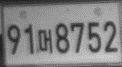1: (22, 24, 36, 54)
2: (102, 20, 117, 52)
5: (87, 22, 101, 52)
7: (70, 22, 84, 53)
8: (55, 23, 70, 53)
9: (6, 23, 20, 55)
머: (37, 28, 53, 54)
